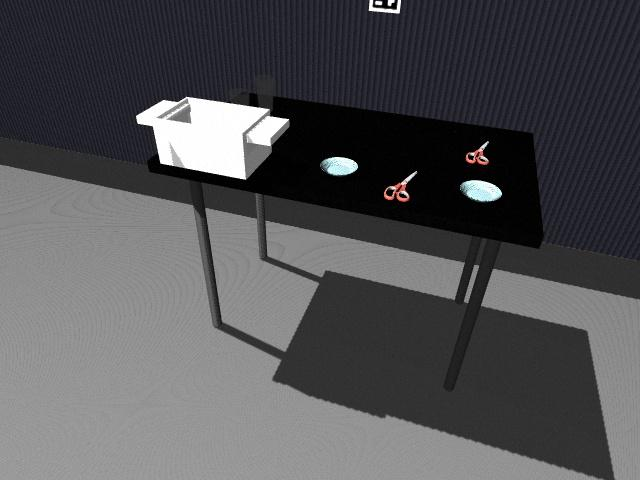cup: (254, 75, 276, 111), (230, 91, 254, 109)
plate: (458, 178, 505, 203), (319, 157, 358, 176)
scissors: (383, 170, 416, 203), (466, 139, 491, 164)
